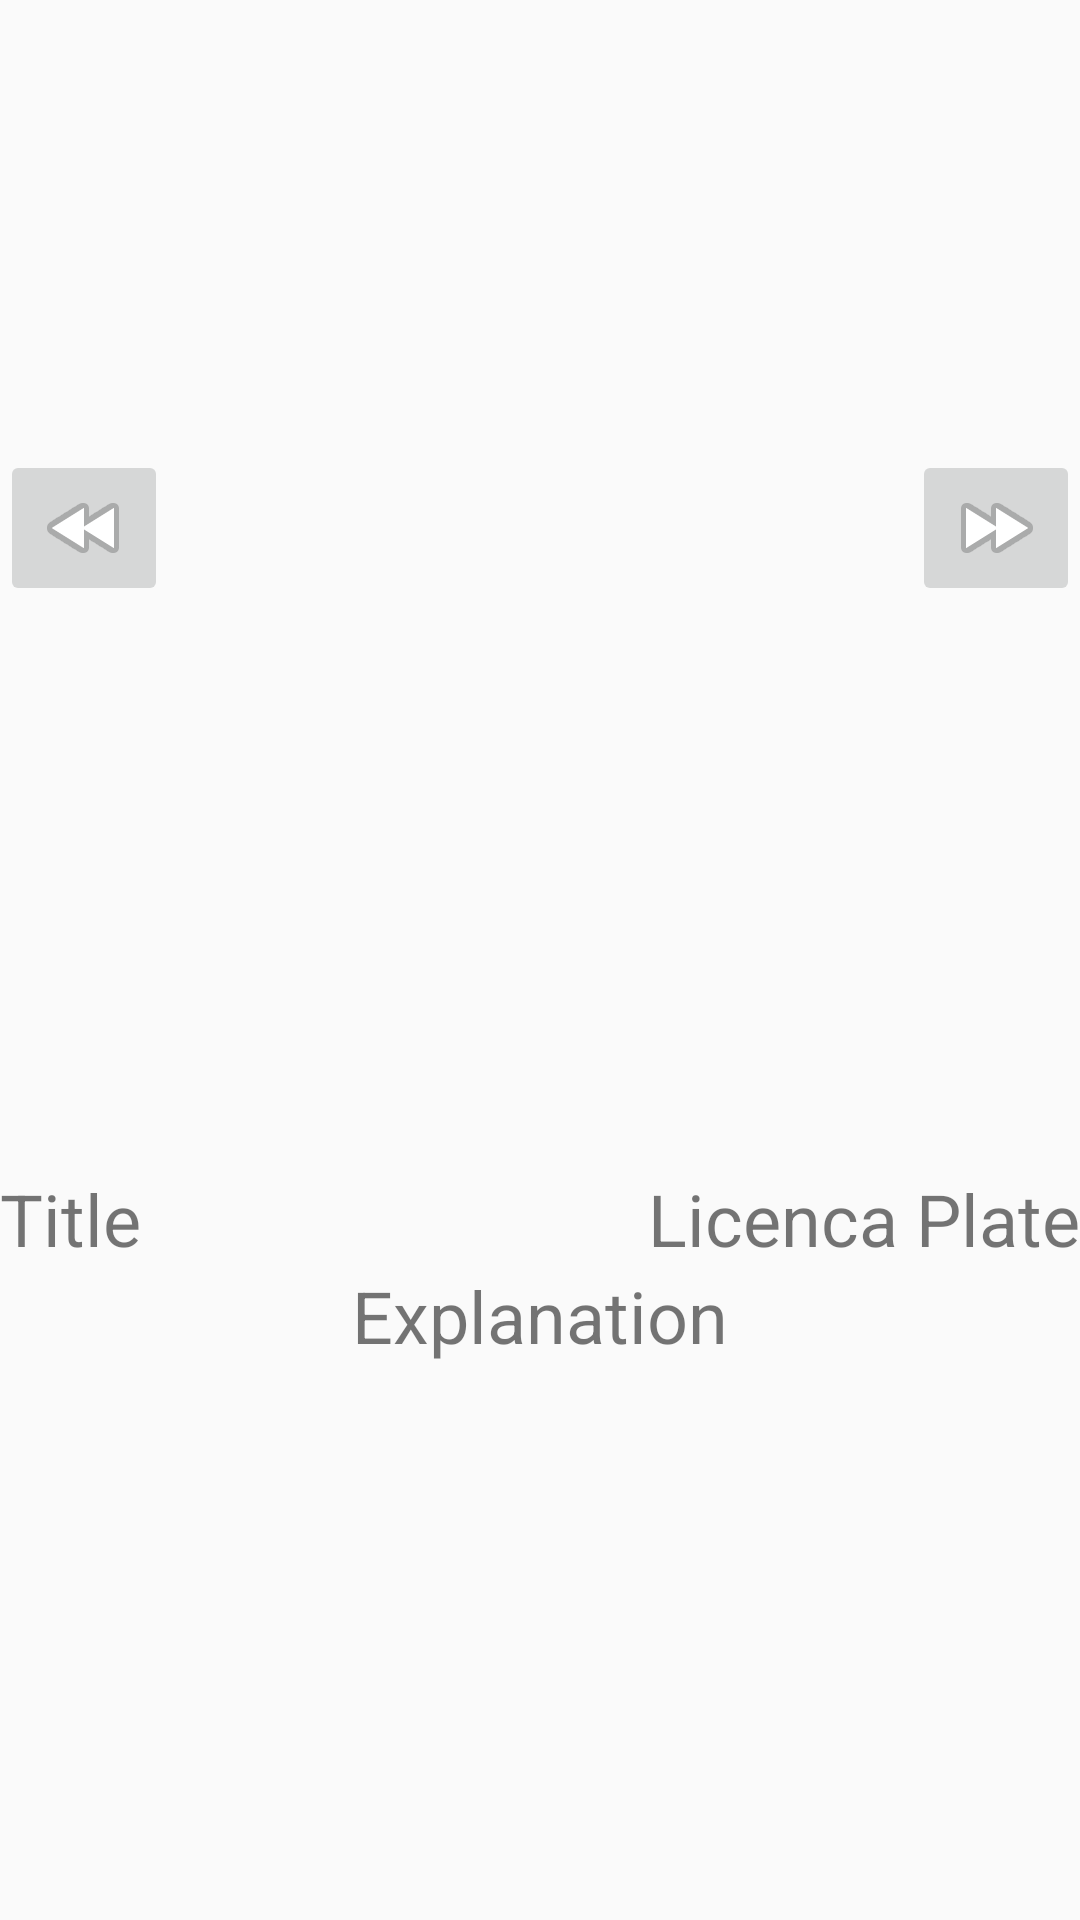

Locate icon controls on the screen. Image size 1080 x 1920, boxes as (x1, y1, x2, y2).
LEFT BUTTON: (12, 468, 156, 588)
RIGHT BUTTON: (924, 468, 1068, 588)
